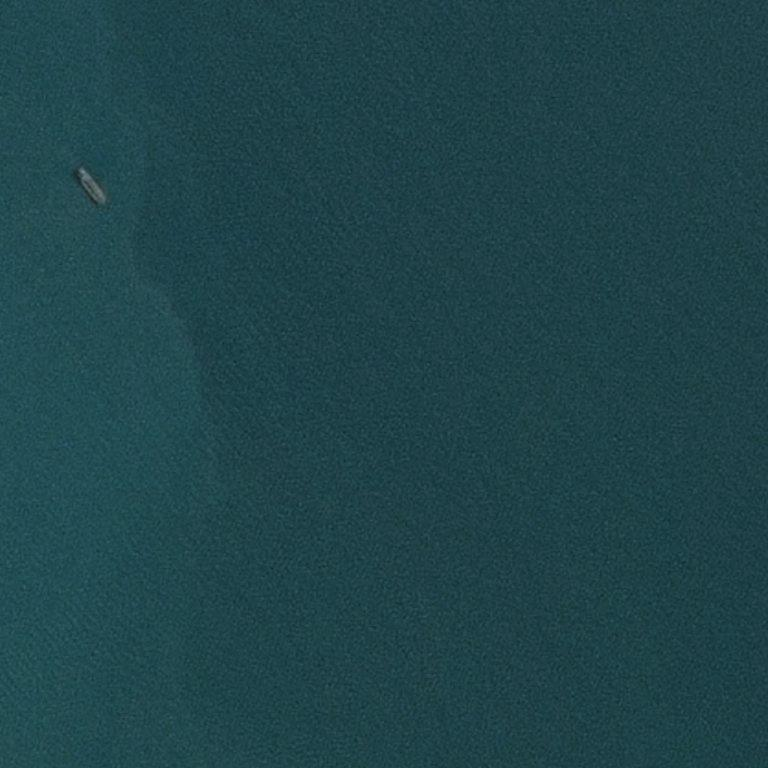ship: (0, 165, 24, 208), (101, 202, 106, 206), (75, 4, 78, 7), (83, 167, 83, 168)
